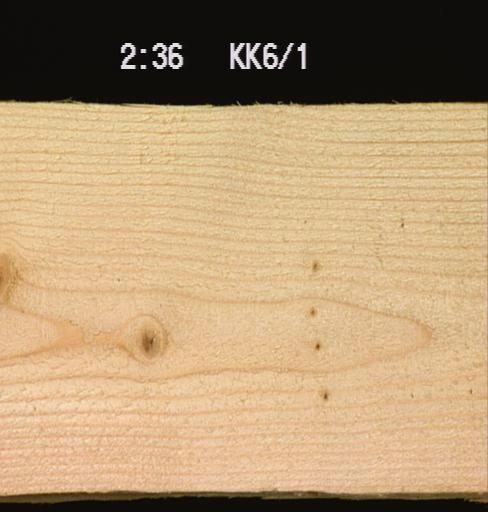small_knot: (307, 335, 333, 358), (317, 381, 339, 408), (305, 252, 325, 275), (304, 298, 323, 321)
sound_knot: (121, 312, 176, 365), (0, 241, 17, 300)
